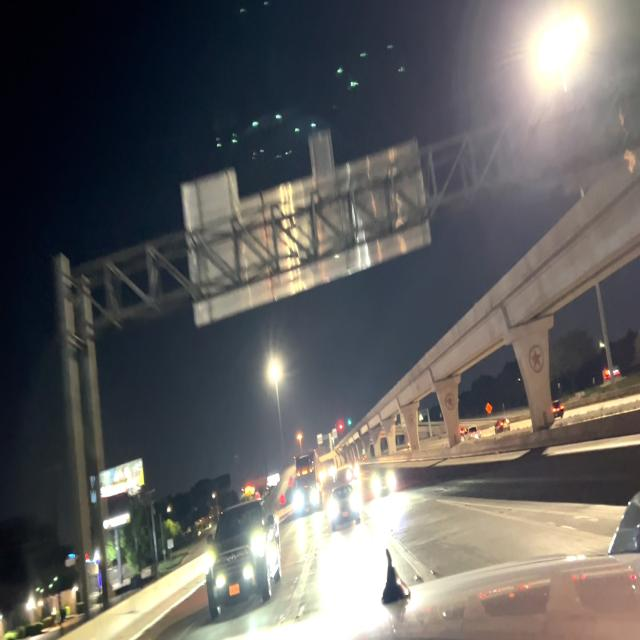back-of-sign: (179, 132, 431, 326)
